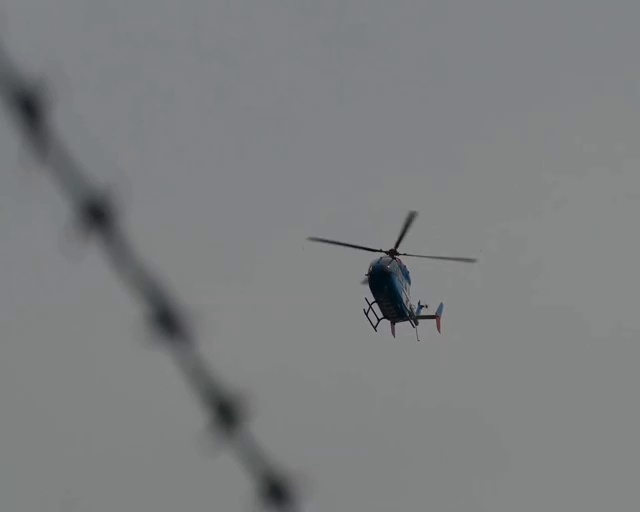HELICOPTER: (302, 209, 479, 342)
